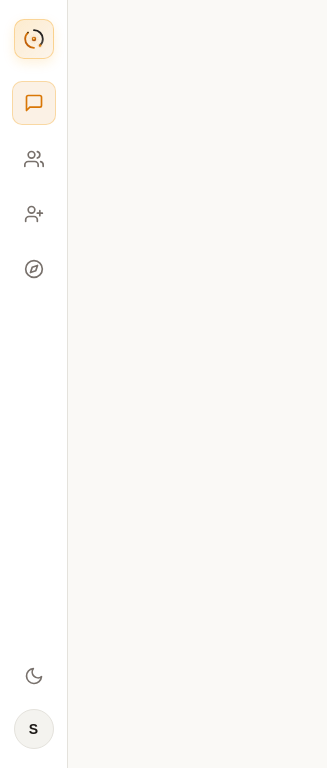
Test: NavigationRailComponent › should toggle user dropdown menu when avatar button is clicked
Click the button with test id "user-avatar-badge": (34, 729) [14,709,54,749]
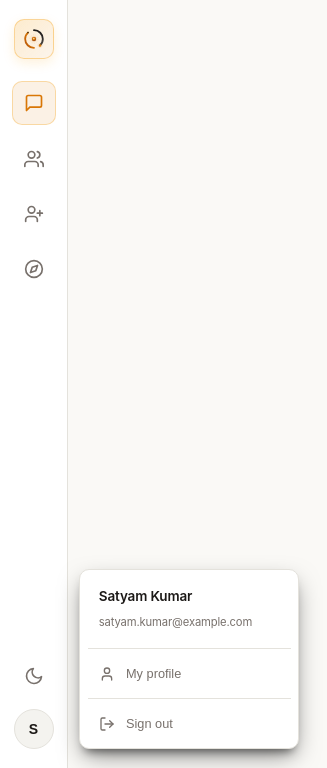
Now the menu with test id "user-dropdown-menu" is shown, box [79,569,299,749]
